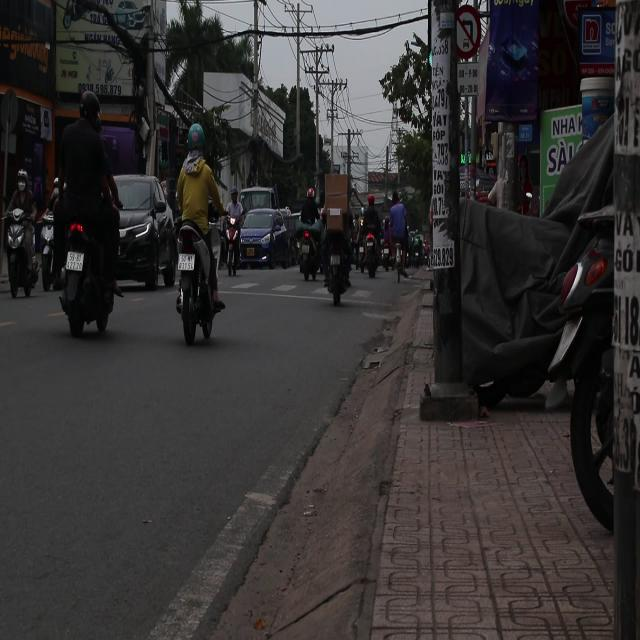car: (112, 173, 178, 294), (236, 209, 290, 269), (236, 186, 278, 222)
motorbike: (56, 218, 118, 340), (174, 220, 222, 346), (327, 236, 351, 304), (361, 226, 382, 279), (298, 234, 320, 282)
